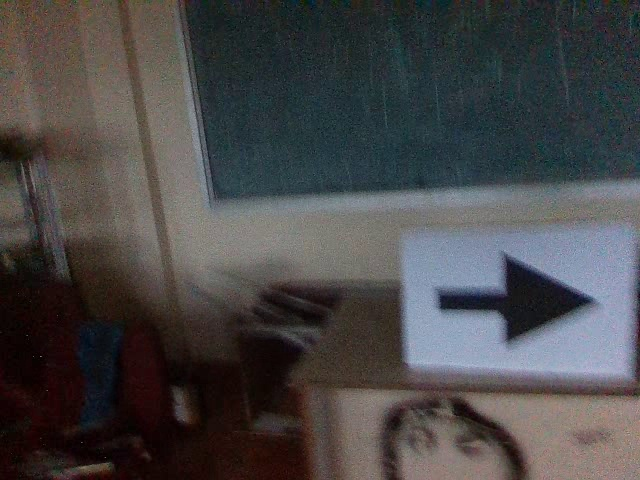Right: (424, 250, 603, 351)
